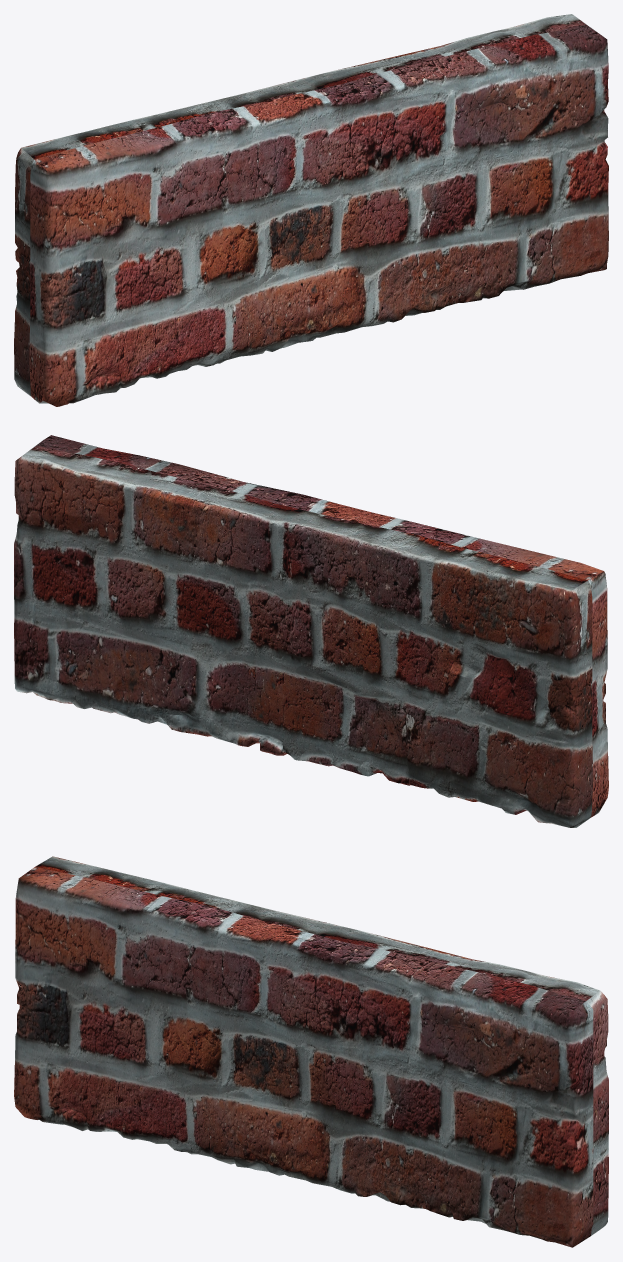
The model's file is damaged_wall.dae.
The picture shows the model from 3 angles, top to bottom: view 1: azimuth 30°, elevation 25°; view 2: azimuth 150°, elevation 25°; view 3: azimuth 330°, elevation 25°; orthographic projection.
Parts seen in each view (by area): view 1: SM_Wall_Damaged_2x1_A; view 2: SM_Wall_Damaged_2x1_A; view 3: SM_Wall_Damaged_2x1_A.
Part boxes in pixels (x1,y1,x2,y2): SM_Wall_Damaged_2x1_A: (14,14,608,406); SM_Wall_Damaged_2x1_A: (14,435,608,827); SM_Wall_Damaged_2x1_A: (14,856,608,1247).
Size of the model in its own units: 200 by 24.57 by 82.14.
Materials: 1 (1 with a texture image).
